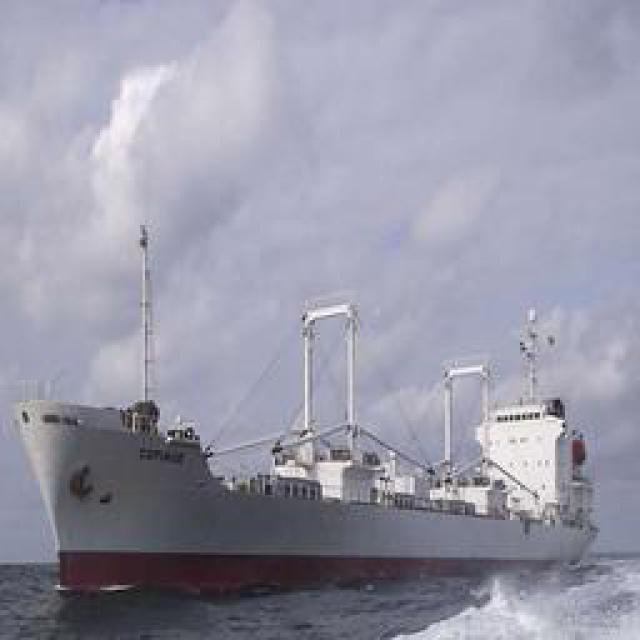Ship: (20, 291, 603, 591)
